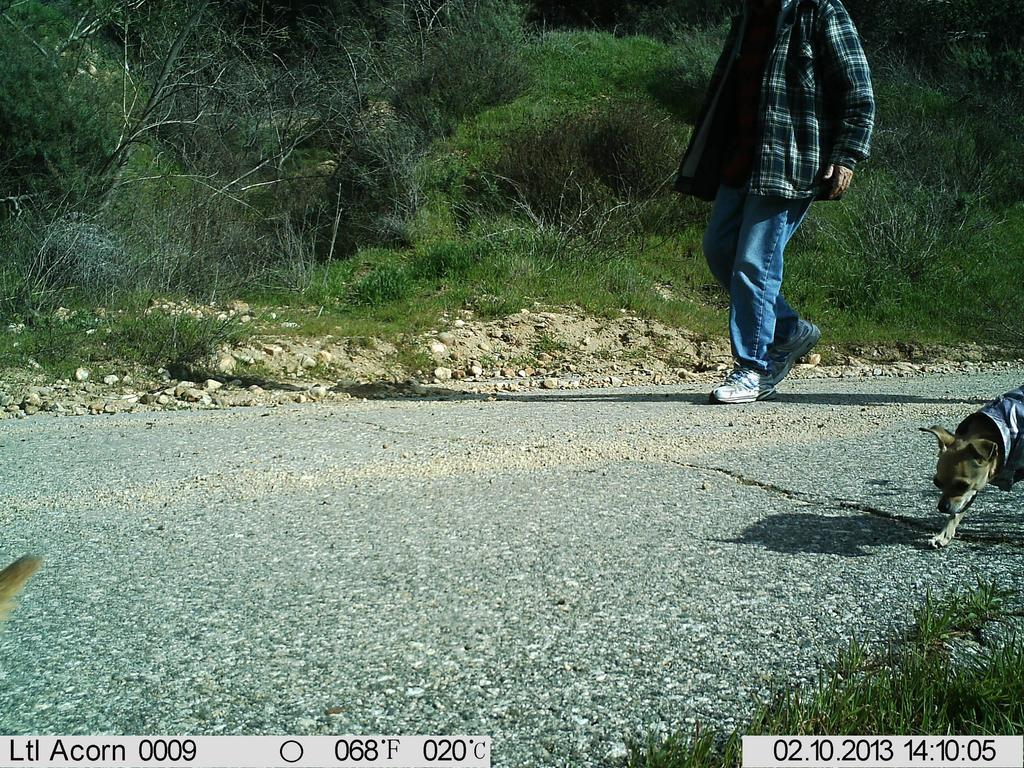dog: (911, 364, 1023, 562)
